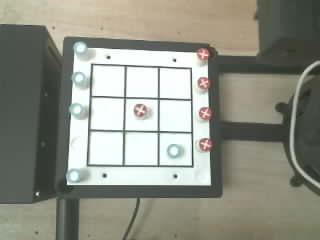blue circle: (71, 72, 87, 87), (69, 103, 84, 117), (167, 144, 181, 157), (73, 42, 87, 55), (66, 169, 80, 182)
board: (67, 42, 213, 185)
cells: (89, 132, 122, 164), (125, 133, 157, 165), (90, 98, 123, 129), (125, 99, 157, 130), (160, 133, 191, 165), (160, 100, 191, 131), (92, 66, 124, 96), (126, 67, 157, 97), (160, 68, 190, 98)
grid: (87, 64, 193, 167)
red cross: (134, 104, 147, 117), (199, 138, 212, 151), (196, 48, 209, 60), (199, 107, 212, 119), (197, 77, 210, 89)
